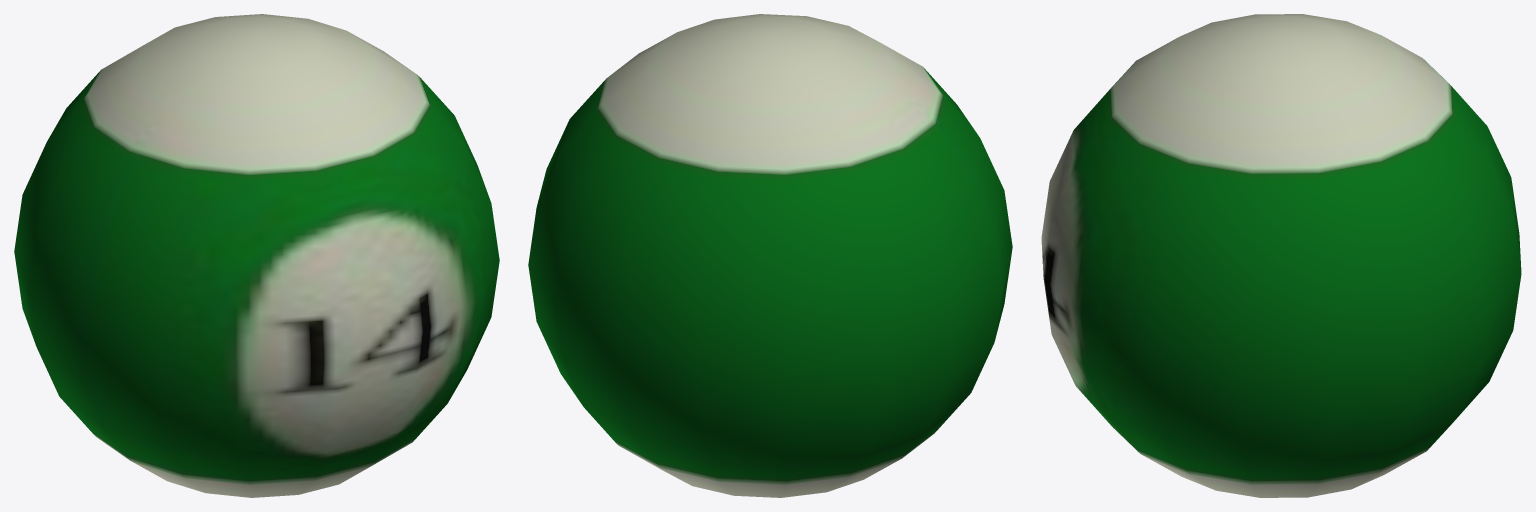
3 views of the same model, side by side, from view 1: azimuth 30°, elevation 25°; view 2: azimuth 150°, elevation 25°; view 3: azimuth 270°, elevation 25° (orthographic).
Parts seen in each view (by area): view 1: bi_a_14; view 2: bi_a_14; view 3: bi_a_14.
Part boxes in pixels (x1=…): bi_a_14: x1=14, y1=14, x2=499, y2=497; bi_a_14: x1=528, y1=14, x2=1012, y2=497; bi_a_14: x1=1041, y1=14, x2=1521, y2=497.
Bounding box in the file's own units: 12.94 × 13.13 × 12.94.
